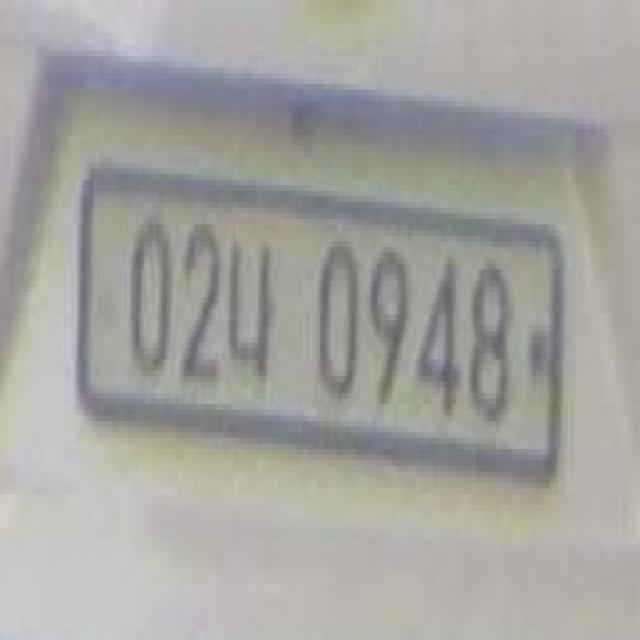illegal_plate: (80, 162, 564, 509)
